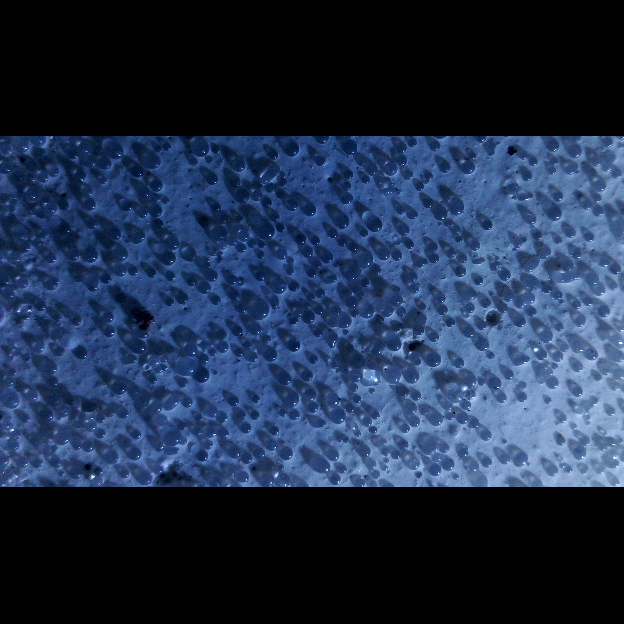GrassBeadSeg: (176, 357, 196, 376), (250, 300, 269, 319), (512, 450, 529, 466), (474, 335, 491, 351), (425, 351, 441, 367), (404, 368, 420, 384), (385, 368, 401, 384), (386, 336, 402, 352), (538, 328, 554, 344), (314, 458, 330, 474), (283, 391, 299, 407), (271, 277, 287, 293), (342, 265, 358, 281), (336, 313, 352, 329), (164, 430, 180, 446), (53, 429, 69, 445), (4, 391, 20, 407), (112, 245, 128, 261), (160, 250, 176, 266), (181, 246, 197, 262), (210, 225, 226, 241), (164, 235, 180, 251), (109, 144, 125, 160), (145, 153, 161, 169), (259, 223, 275, 239), (24, 188, 40, 204), (13, 138, 29, 154), (367, 217, 383, 233), (334, 213, 350, 229), (284, 140, 300, 156), (449, 199, 465, 215), (432, 205, 448, 221), (546, 205, 562, 221), (567, 143, 583, 159), (349, 352, 365, 368), (359, 303, 375, 319), (387, 290, 403, 306), (42, 360, 58, 376), (329, 408, 345, 423), (194, 367, 210, 382), (358, 251, 374, 266), (103, 448, 119, 463), (82, 247, 98, 262), (193, 141, 209, 156), (342, 140, 358, 155), (459, 160, 475, 175), (562, 160, 578, 175), (421, 438, 437, 453), (129, 447, 141, 460), (151, 179, 163, 191), (150, 205, 162, 217), (110, 227, 122, 239), (132, 166, 144, 178), (100, 158, 112, 170), (48, 165, 60, 177), (37, 172, 49, 184), (115, 264, 127, 276), (26, 159, 38, 171), (46, 278, 58, 290), (17, 277, 29, 289), (100, 272, 112, 284), (88, 279, 100, 291), (76, 348, 88, 360), (177, 293, 189, 305), (199, 281, 211, 293), (133, 341, 145, 353), (186, 344, 198, 356), (150, 402, 162, 414), (182, 396, 194, 408), (234, 410, 246, 422), (281, 447, 293, 459), (266, 439, 278, 451), (241, 452, 253, 464), (229, 446, 241, 458), (263, 459, 275, 471), (152, 440, 164, 452), (83, 440, 95, 452), (51, 456, 63, 468), (26, 390, 38, 402), (42, 409, 54, 421), (57, 406, 69, 418), (8, 439, 20, 451), (114, 383, 126, 395), (146, 354, 158, 366), (34, 136, 46, 148), (385, 163, 397, 175), (236, 191, 248, 203), (341, 192, 353, 204), (288, 339, 300, 351), (265, 349, 277, 361), (279, 373, 291, 385), (288, 408, 300, 420), (238, 471, 250, 483), (206, 425, 218, 437), (262, 475, 274, 487), (276, 475, 288, 487), (443, 459, 455, 471), (405, 402, 417, 414), (489, 378, 501, 390), (71, 465, 82, 478), (121, 199, 132, 211), (133, 230, 144, 242), (85, 199, 96, 211), (74, 170, 85, 182), (46, 202, 57, 214), (139, 186, 150, 198), (72, 136, 83, 148), (104, 325, 115, 337), (33, 341, 44, 353), (129, 385, 140, 397), (240, 422, 251, 434), (254, 447, 265, 459), (197, 449, 208, 461), (118, 406, 129, 418), (86, 420, 97, 432), (325, 271, 336, 283), (304, 312, 315, 324), (429, 464, 441, 475), (431, 414, 442, 426), (250, 323, 261, 335), (140, 472, 151, 484), (455, 266, 466, 277), (469, 240, 480, 251), (482, 220, 493, 231), (515, 298, 526, 309), (515, 317, 526, 328), (563, 261, 574, 272), (595, 285, 606, 296), (525, 293, 536, 304), (575, 316, 586, 327), (524, 262, 535, 273), (526, 214, 537, 225), (548, 141, 559, 152), (439, 162, 450, 173), (367, 165, 378, 176), (322, 253, 333, 264), (238, 231, 249, 242), (229, 177, 240, 188), (207, 271, 218, 282), (237, 303, 248, 314), (232, 325, 243, 336), (242, 340, 253, 351), (247, 352, 258, 363), (198, 355, 209, 366), (375, 302, 386, 313), (453, 358, 464, 369), (382, 306, 393, 317), (536, 350, 547, 361), (572, 362, 583, 373), (572, 343, 583, 354), (499, 454, 510, 465), (458, 413, 469, 424), (350, 371, 361, 382), (414, 324, 425, 335), (407, 272, 417, 283), (500, 270, 511, 280), (503, 291, 513, 302), (543, 283, 554, 293), (588, 275, 599, 285), (599, 257, 610, 267), (599, 307, 610, 317), (595, 181, 606, 191), (429, 141, 440, 151), (398, 225, 409, 235), (396, 156, 407, 166), (287, 201, 298, 211), (305, 206, 316, 216), (252, 191, 263, 201), (208, 175, 219, 185), (288, 281, 299, 291), (199, 257, 210, 267), (218, 343, 229, 353), (302, 372, 313, 382), (291, 307, 302, 317), (347, 298, 358, 308), (359, 278, 370, 288), (428, 332, 439, 342), (464, 328, 475, 338), (379, 250, 390, 260), (552, 352, 563, 362), (586, 350, 597, 360), (613, 353, 624, 363), (496, 393, 507, 403), (516, 381, 527, 391), (547, 378, 558, 388), (547, 466, 558, 476), (481, 429, 491, 440), (575, 449, 585, 460), (460, 400, 471, 410), (410, 417, 420, 428), (360, 447, 371, 457), (399, 387, 410, 397), (409, 458, 419, 469), (328, 451, 339, 461), (308, 402, 318, 413), (306, 390, 316, 401), (234, 162, 245, 172), (505, 183, 516, 193), (541, 248, 551, 258), (611, 265, 621, 275), (277, 250, 287, 260), (217, 329, 227, 339), (572, 387, 582, 397), (504, 370, 514, 380), (466, 290, 476, 300), (440, 443, 450, 453), (466, 377, 476, 387), (329, 395, 339, 405), (405, 240, 414, 249), (430, 254, 439, 263), (329, 230, 338, 239), (297, 235, 306, 244), (311, 236, 320, 245), (308, 269, 317, 278), (447, 249, 456, 258), (459, 254, 468, 263), (474, 276, 483, 285), (478, 321, 487, 330), (584, 298, 593, 307), (572, 250, 581, 259), (609, 282, 618, 291), (593, 194, 602, 203), (583, 201, 592, 210), (529, 158, 538, 167), (519, 151, 528, 160), (415, 182, 424, 191), (398, 144, 407, 153), (358, 157, 367, 166), (316, 157, 325, 166), (276, 223, 285, 232), (212, 203, 221, 212), (279, 178, 288, 187), (269, 151, 278, 160), (271, 213, 280, 222), (277, 190, 286, 199), (263, 198, 272, 207), (257, 272, 266, 281), (228, 276, 237, 285), (315, 306, 324, 315), (332, 307, 341, 316), (166, 271, 175, 280), (138, 209, 147, 218), (212, 144, 221, 153), (247, 184, 256, 193), (60, 201, 69, 210), (22, 243, 31, 252), (12, 255, 21, 264), (2, 165, 11, 174), (84, 187, 93, 196), (70, 150, 79, 159), (6, 290, 15, 299), (37, 302, 46, 311), (73, 316, 82, 325), (23, 304, 32, 313), (1, 277, 10, 286), (56, 347, 65, 356), (5, 377, 14, 386), (132, 430, 141, 439), (96, 414, 105, 423), (106, 407, 115, 416), (3, 423, 12, 432), (73, 441, 82, 450), (120, 469, 129, 478), (154, 465, 163, 474), (218, 413, 227, 422), (204, 440, 213, 449), (251, 410, 260, 419), (338, 464, 347, 473), (317, 419, 326, 428), (309, 355, 318, 364), (369, 426, 378, 435), (422, 456, 431, 465), (575, 406, 584, 415), (87, 158, 96, 167), (204, 155, 213, 164), (394, 251, 402, 260), (429, 242, 437, 251), (360, 228, 368, 237), (410, 284, 418, 293), (439, 306, 447, 315), (398, 307, 406, 316), (372, 265, 380, 274), (437, 294, 445, 303), (304, 248, 312, 257), (409, 210, 417, 219), (397, 205, 405, 214), (447, 318, 455, 327), (466, 304, 474, 313), (482, 299, 490, 308), (499, 304, 507, 313), (554, 291, 562, 300), (528, 308, 536, 317), (555, 322, 563, 331), (572, 301, 580, 310), (514, 239, 522, 248), (533, 231, 541, 240), (567, 229, 575, 238), (585, 234, 594, 242), (554, 236, 562, 245), (554, 192, 562, 201), (594, 207, 602, 216), (548, 166, 556, 175), (550, 157, 558, 166), (603, 164, 611, 173), (612, 169, 620, 178), (593, 158, 601, 167), (604, 139, 612, 148), (523, 173, 531, 182), (452, 225, 460, 234), (425, 171, 433, 180), (424, 199, 432, 208), (362, 175, 370, 184), (345, 170, 353, 179), (404, 170, 412, 179), (409, 139, 417, 148), (350, 242, 358, 251), (339, 238, 347, 247), (286, 266, 294, 275), (313, 260, 321, 269), (257, 250, 265, 259), (248, 238, 256, 247), (267, 183, 275, 192), (218, 241, 226, 250), (238, 244, 246, 253), (229, 236, 237, 245), (317, 289, 325, 298), (262, 335, 270, 344), (231, 291, 239, 300), (212, 296, 220, 305), (188, 277, 196, 286), (148, 269, 156, 278), (130, 266, 138, 275), (155, 219, 163, 228), (152, 193, 160, 202), (162, 196, 170, 205), (190, 158, 198, 167), (163, 142, 171, 151), (89, 220, 97, 229), (41, 229, 49, 238), (18, 233, 26, 242), (35, 239, 43, 248), (48, 254, 56, 263), (62, 225, 70, 234), (27, 174, 35, 183), (17, 172, 25, 181), (81, 146, 89, 155), (70, 252, 79, 260), (105, 313, 113, 322), (128, 354, 136, 363), (149, 374, 157, 383), (180, 378, 188, 387), (50, 378, 58, 387), (21, 414, 29, 423), (13, 430, 21, 439), (94, 466, 102, 475), (95, 478, 103, 487), (18, 459, 27, 467), (179, 422, 187, 431), (195, 413, 204, 421), (209, 408, 217, 417), (229, 397, 238, 405), (35, 458, 43, 467), (279, 407, 287, 416), (227, 467, 236, 475), (372, 410, 380, 419), (346, 404, 354, 413), (382, 447, 390, 456), (392, 450, 400, 459), (368, 460, 376, 469), (356, 478, 364, 487), (332, 475, 340, 484), (400, 441, 408, 450), (434, 453, 442, 462), (446, 412, 454, 421), (421, 407, 429, 416), (444, 401, 452, 410), (460, 448, 468, 457), (557, 437, 565, 446), (558, 414, 566, 423), (581, 436, 589, 445), (579, 465, 587, 474), (607, 407, 615, 416), (611, 478, 619, 487), (594, 373, 602, 382), (561, 343, 569, 352), (518, 393, 526, 402), (616, 340, 624, 349), (602, 366, 610, 375), (601, 333, 609, 342), (471, 419, 479, 428), (364, 418, 372, 427), (314, 328, 322, 337), (394, 323, 402, 332), (418, 302, 426, 311), (597, 466, 605, 475), (599, 443, 607, 452), (608, 438, 616, 447), (611, 460, 619, 469), (537, 376, 545, 385), (261, 175, 269, 184), (99, 175, 107, 184), (170, 397, 178, 406), (415, 259, 423, 268), (343, 182, 351, 190), (219, 215, 227, 223), (193, 428, 201, 436), (97, 430, 105, 438), (220, 430, 228, 438), (271, 427, 279, 435), (252, 395, 260, 403), (209, 348, 217, 356), (353, 395, 361, 403), (350, 384, 358, 392), (235, 348, 243, 356), (372, 470, 380, 478), (401, 425, 409, 433), (413, 392, 421, 400), (483, 459, 491, 467), (611, 382, 619, 390), (471, 464, 479, 472), (290, 317, 298, 324), (544, 397, 552, 404), (543, 361, 551, 368), (574, 431, 582, 438), (415, 472, 423, 479), (353, 430, 361, 437), (180, 438, 188, 445), (23, 354, 31, 361), (160, 364, 168, 371), (166, 298, 174, 305), (237, 278, 245, 285), (209, 249, 217, 256), (258, 241, 266, 248), (328, 339, 336, 346), (478, 379, 485, 386), (487, 353, 494, 360), (546, 369, 553, 376), (551, 363, 558, 370), (570, 423, 577, 430), (565, 466, 572, 473), (453, 473, 460, 480), (381, 464, 388, 471), (277, 464, 284, 471), (172, 448, 179, 455), (58, 470, 65, 477), (51, 445, 58, 452), (68, 398, 75, 405), (9, 368, 16, 375), (141, 332, 148, 339), (272, 301, 279, 308), (308, 294, 315, 301), (351, 311, 358, 318), (376, 316, 383, 323), (236, 216, 243, 223), (342, 437, 349, 443), (211, 369, 218, 375), (488, 291, 494, 297), (343, 330, 349, 335), (369, 388, 375, 393), (415, 360, 421, 365), (384, 458, 390, 463), (559, 463, 565, 468), (456, 237, 462, 242), (470, 155, 476, 160), (423, 179, 429, 184), (381, 439, 386, 444), (464, 464, 469, 469), (502, 439, 507, 444), (586, 421, 591, 426), (464, 313, 469, 318), (489, 150, 494, 155)
